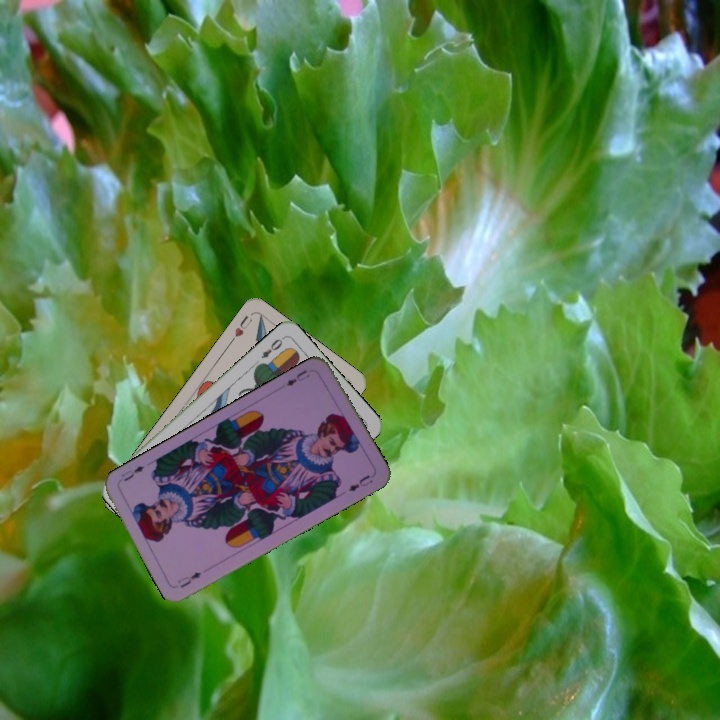EO: (257, 333, 287, 361)
EU: (173, 568, 204, 591), (282, 366, 312, 389)
HU: (226, 311, 255, 345)
